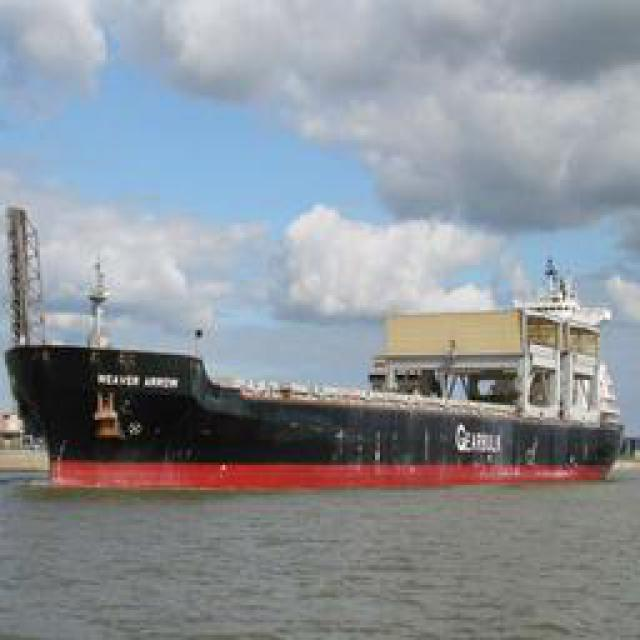Ship: (4, 195, 627, 493)
